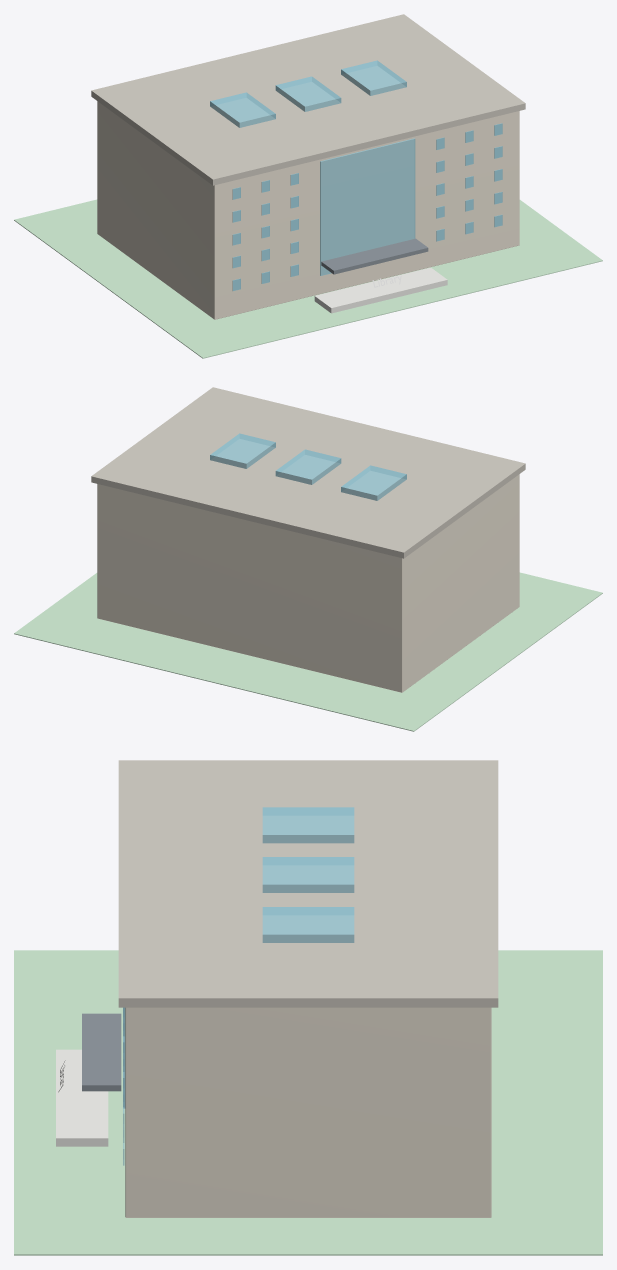
Rendered from library.glb.
The picture shows the model from 3 angles, top to bottom: view 1: azimuth 30°, elevation 25°; view 2: azimuth 150°, elevation 25°; view 3: azimuth 270°, elevation 25°; orthographic projection. The views are drawn at different scales.
Parts seen in each view (by area): view 1: library_body, library_roof, library.001_base_tile, library_center_glass, library_entry_steps, library_entry_canopy, library_skylight_0, library_skylight_-9, library_skylight_9; view 2: library_body, library_roof, library.001_base_tile, library_skylight_0, library_skylight_-9, library_skylight_9; view 3: library_roof, library_body, library.001_base_tile, library_entry_steps, library_skylight_-9, library_skylight_0, library_skylight_9, library_entry_canopy.
Part boxes in pixels (x1,y1,x2,y2): library_body: [97, 101, 519, 319]; library_roof: [91, 14, 525, 185]; library.001_base_tile: [14, 199, 602, 358]; library_center_glass: [320, 138, 415, 275]; library_entry_steps: [314, 267, 447, 313]; library_entry_canopy: [321, 238, 428, 274]; library_skylight_0: [275, 76, 341, 111]; library_skylight_-9: [210, 92, 275, 127]; library_skylight_9: [341, 60, 406, 95]; library_body: [97, 474, 519, 692]; library_roof: [91, 387, 525, 558]; library.001_base_tile: [14, 572, 602, 731]; library_skylight_0: [275, 449, 341, 484]; library_skylight_-9: [341, 465, 406, 500]; library_skylight_9: [210, 433, 275, 468]; library_roof: [118, 760, 498, 1007]; library_body: [125, 1007, 491, 1217]; library.001_base_tile: [14, 950, 602, 1255]; library_entry_steps: [56, 1049, 108, 1146]; library_skylight_-9: [262, 807, 354, 843]; library_skylight_0: [262, 857, 354, 892]; library_skylight_9: [262, 907, 354, 942]; library_entry_canopy: [82, 1013, 121, 1091].
Size of the model in its own units: 55 by 19.61 by 45.
